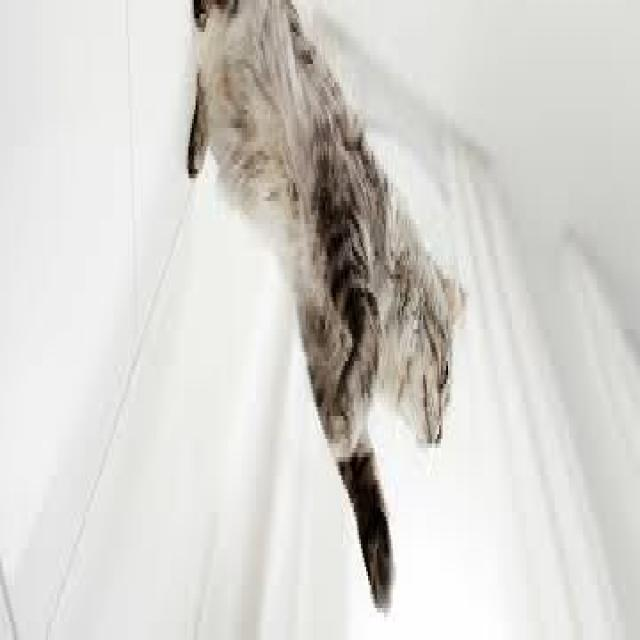Cat: (185, 0, 470, 618)
